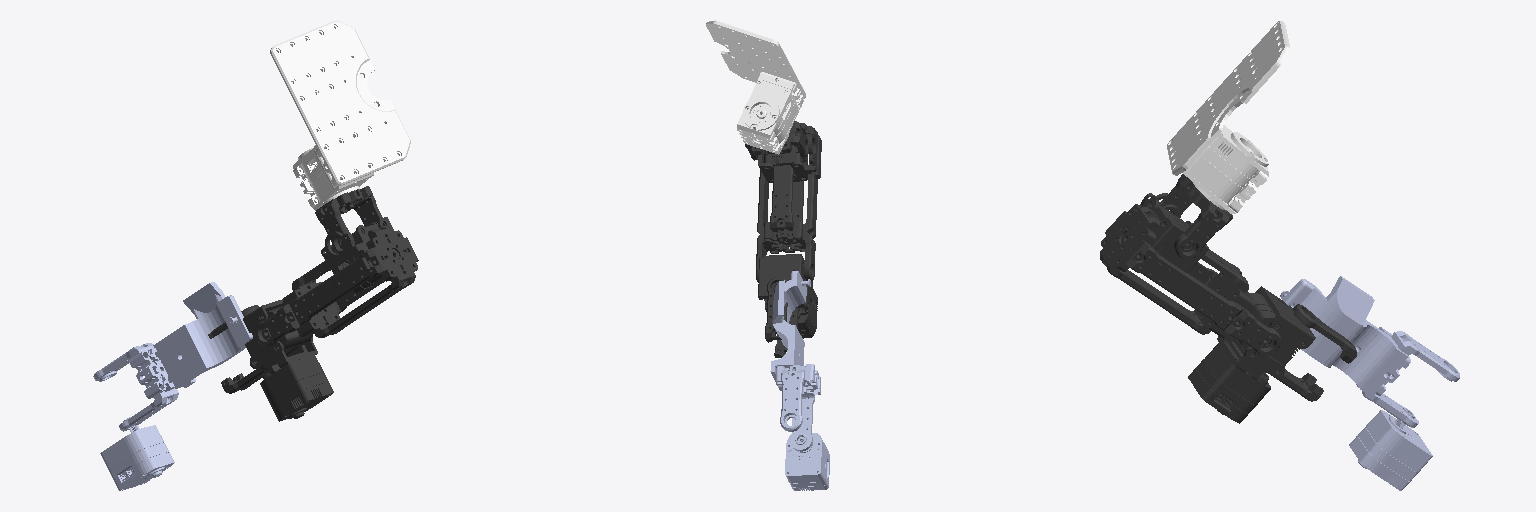
URDF robot description (HARIMOTO):
<?xml version="1.0" encoding="utf-8"?>
<!-- This URDF was automatically created by SolidWorks to URDF Exporter! Originally created by [author] ([email redacted]) 
     Commit Version:   Build Version: 1.6.9102.25287
     For more information, please see http://wiki.ros.org/sw_urdf_exporter -->
<robot
  name="HARIMOTO">
  <link
    name="base_link">
    <inertial>
      <origin
        xyz="0.287280488181305 0.119758135093113 0.0120759441708456"
        rpy="0 0 0" />
      <mass
        value="0.0468580060932661" />
      <inertia
        ixx="1.56534574192188E-05"
        ixy="6.61087369064978E-07"
        ixz="-7.21642700260539E-07"
        iyy="1.29229800207445E-05"
        iyz="5.02340603686712E-06"
        izz="1.41194963510472E-05" />
    </inertial>
    <visual>
      <origin
        xyz="0 0 0"
        rpy="0 0 0" />
      <geometry>
        <mesh
          filename="package://HARIMOTO/meshes/base_link.STL" />
      </geometry>
      <material
        name="">
        <color
          rgba="1 1 1 1" />
      </material>
    </visual>
    <collision>
      <origin
        xyz="0 0 0"
        rpy="0 0 0" />
      <geometry>
        <mesh
          filename="package://HARIMOTO/meshes/base_link.STL" />
      </geometry>
    </collision>
  </link>
  <link
    name="upper_shoulder">
    <inertial>
      <origin
        xyz="0.0129549305137396 -0.0148664141809147 -0.0276892742587567"
        rpy="0 0 0" />
      <mass
        value="0.0335476434855063" />
      <inertia
        ixx="3.81490155615431E-06"
        ixy="1.21543917806917E-08"
        ixz="2.11998108883291E-08"
        iyy="4.64648709409639E-06"
        iyz="9.45842330050794E-09"
        izz="3.45395092938991E-06" />
    </inertial>
    <visual>
      <origin
        xyz="0 0 0"
        rpy="0 0 0" />
      <geometry>
        <mesh
          filename="package://HARIMOTO/meshes/upper_shoulder.STL" />
      </geometry>
      <material
        name="">
        <color
          rgba="0.298039215686275 0.298039215686275 0.298039215686275 1" />
      </material>
    </visual>
    <collision>
      <origin
        xyz="0 0 0"
        rpy="0 0 0" />
      <geometry>
        <mesh
          filename="package://HARIMOTO/meshes/upper_shoulder.STL" />
      </geometry>
    </collision>
  </link>
  <joint
    name="upper_shoulder"
    type="revolute">
    <origin
      xyz="0.27658 -0.037897 0.095074"
      rpy="0.18413 0.71623 2.0474" />
    <parent
      link="base_link" />
    <child
      link="upper_shoulder" />
    <axis
      xyz="0 0 1" />
    <limit
      lower="-1.2"
      upper="0"
      effort="0"
      velocity="10" />
  </joint>
  <link
    name="lower_shoulder">
    <inertial>
      <origin
        xyz="-6.29007393652889E-05 -0.0773879745241495 -2.62161943492267E-05"
        rpy="0 0 0" />
      <mass
        value="0.0576719241727569" />
      <inertia
        ixx="1.7120909538195E-05"
        ixy="9.45797260721662E-09"
        ixz="-1.21542702244487E-08"
        iyy="4.4501235896574E-06"
        iyz="-2.11998275069902E-08"
        izz="1.64179743238391E-05" />
    </inertial>
    <visual>
      <origin
        xyz="0 0 0"
        rpy="0 0 0" />
      <geometry>
        <mesh
          filename="package://HARIMOTO/meshes/lower_shoulder.STL" />
      </geometry>
      <material
        name="">
        <color
          rgba="0.298039215686275 0.298039215686275 0.298039215686275 1" />
      </material>
    </visual>
    <collision>
      <origin
        xyz="0 0 0"
        rpy="0 0 0" />
      <geometry>
        <mesh
          filename="package://HARIMOTO/meshes/lower_shoulder.STL" />
      </geometry>
    </collision>
  </link>
  <joint
    name="lower_shoulder"
    type="revolute">
    <origin
      xyz="-0.005 -0.0145 -0.041"
      rpy="1.5708 -1.5708 0" />
    <parent
      link="upper_shoulder" />
    <child
      link="lower_shoulder" />
    <axis
      xyz="0 1 0" />
    <limit
      lower="-2.7"
      upper="0.75"
      effort="0"
      velocity="10" />
  </joint>
  <link
    name="upper_arm">
    <inertial>
      <origin
        xyz="-0.00733809185080686 9.50609948116299E-05 -0.00741154132403037"
        rpy="0 0 0" />
      <mass
        value="0.0214573443165031" />
      <inertia
        ixx="2.31688951311032E-06"
        ixy="3.18660578583586E-09"
        ixz="2.10545109019354E-08"
        iyy="3.0075651917683E-06"
        iyz="1.16767658606973E-08"
        izz="2.83620449126694E-06" />
    </inertial>
    <visual>
      <origin
        xyz="0 0 0"
        rpy="0 0 0" />
      <geometry>
        <mesh
          filename="package://HARIMOTO/meshes/upper_arm.STL" />
      </geometry>
      <material
        name="">
        <color
          rgba="0.298039215686275 0.298039215686275 0.298039215686275 1" />
      </material>
    </visual>
    <collision>
      <origin
        xyz="0 0 0"
        rpy="0 0 0" />
      <geometry>
        <mesh
          filename="package://HARIMOTO/meshes/upper_arm.STL" />
      </geometry>
    </collision>
  </link>
  <joint
    name="upper_arm"
    type="revolute">
    <origin
      xyz="-0.0275 -0.124 0"
      rpy="-1.5708 0 -1.5708" />
    <parent
      link="lower_shoulder" />
    <child
      link="upper_arm" />
    <axis
      xyz="0 -1 0" />
    <limit
      lower="-0.7"
      upper="0.7"
      effort="0"
      velocity="10" />
  </joint>
  <link
    name="lower_arm">
    <inertial>
      <origin
        xyz="0.0905172935969401 0.0166000014024307 0.0144645438816075"
        rpy="0 0 0" />
      <mass
        value="0.00518942527154281" />
      <inertia
        ixx="1.15670084412165E-07"
        ixy="5.45570467748176E-14"
        ixz="6.63380350348761E-09"
        iyy="9.48396463628822E-07"
        iyz="-5.87125231080151E-15"
        izz="1.02989357855173E-06" />
    </inertial>
    <visual>
      <origin
        xyz="0 0 0"
        rpy="0 0 0" />
      <geometry>
        <mesh
          filename="package://HARIMOTO/meshes/lower_arm.STL" />
      </geometry>
      <material
        name="">
        <color
          rgba="0.298039215686275 0.298039215686275 0.298039215686275 1" />
      </material>
    </visual>
    <collision>
      <origin
        xyz="0 0 0"
        rpy="0 0 0" />
      <geometry>
        <mesh
          filename="package://HARIMOTO/meshes/lower_arm.STL" />
      </geometry>
    </collision>
  </link>
  <joint
    name="lower_arm"
    type="revolute">
    <origin
      xyz="0.1085 0.0166 0.0151"
      rpy="0 0 3.1416" />
    <parent
      link="upper_arm" />
    <child
      link="lower_arm" />
    <axis
      xyz="0 0 -1" />
    <limit
      lower="-1.5"
      upper="1.5"
      effort="0"
      velocity="10" />
  </joint>
  <link
    name="hand">
    <inertial>
      <origin
        xyz="0.0362224472631212 0.0165410815195246 0.0167804968470659"
        rpy="0 0 0" />
      <mass
        value="0.0425234840552025" />
      <inertia
        ixx="5.46948254274658E-06"
        ixy="-4.38387714935454E-10"
        ixz="9.10215745459036E-07"
        iyy="2.00650338164068E-05"
        iyz="1.25447234705641E-09"
        izz="1.69147927720201E-05" />
    </inertial>
    <visual>
      <origin
        xyz="0 0 0"
        rpy="0 0 0" />
      <geometry>
        <mesh
          filename="package://HARIMOTO/meshes/hand.STL" />
      </geometry>
      <material
        name="">
        <color
          rgba="0.792156862745098 0.819607843137255 0.933333333333333 1" />
      </material>
    </visual>
    <collision>
      <origin
        xyz="0 0 0"
        rpy="0 0 0" />
      <geometry>
        <mesh
          filename="package://HARIMOTO/meshes/hand.STL" />
      </geometry>
    </collision>
  </link>
  <joint
    name="hand"
    type="fixed">
    <origin
      xyz="0 0 0"
      rpy="0 0 0" />
    <parent
      link="lower_arm" />
    <child
      link="hand" />
    <axis
      xyz="0 0 0" />
  </joint>
</robot>

--- Facts derived from the render (not from the file) ---
Views: 3 orthographic renders of the robot side by side, from view 1: azimuth 30°, elevation 25°; view 2: azimuth 150°, elevation 25°; view 3: azimuth 270°, elevation 25°.
Model HARIMOTO with 6 links and 5 joints (4 revolute, 1 fixed), rooted at base_link, posed every joint at zero.
Visible links, largest first — view 1: base_link, hand, lower_shoulder, upper_shoulder, upper_arm, lower_arm; view 2: hand, base_link, lower_shoulder, upper_shoulder, lower_arm, upper_arm; view 3: lower_shoulder, hand, base_link, upper_shoulder, upper_arm, lower_arm.
Link boxes in pixels (box(x1,y1,x2,y2)): base_link: box(270, 20, 410, 210); hand: box(93, 282, 252, 490); lower_shoulder: box(243, 225, 418, 378); upper_shoulder: box(315, 186, 394, 292); upper_arm: box(260, 355, 333, 421); lower_arm: box(208, 305, 268, 393); hand: box(770, 271, 829, 490); base_link: box(706, 20, 805, 154); lower_shoulder: box(756, 123, 817, 318); upper_shoulder: box(745, 121, 821, 182); lower_arm: box(765, 277, 799, 357); upper_arm: box(798, 288, 817, 338); lower_shoulder: box(1100, 207, 1315, 384); hand: box(1280, 276, 1459, 490); base_link: box(1167, 21, 1289, 213); upper_shoulder: box(1131, 174, 1232, 272); upper_arm: box(1188, 343, 1270, 423); lower_arm: box(1265, 304, 1356, 401).
Bounding box of the posed robot: 0.1447 × 0.1954 × 0.3119 m (x, y, z).
6 mesh visuals loaded from 6 distinct referenced files (6 binary STL).
